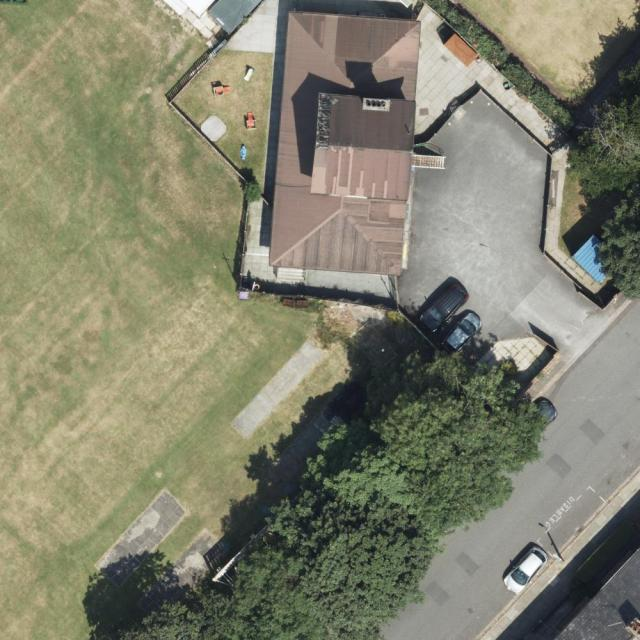roof: (268, 12, 420, 275), (553, 547, 640, 640)
